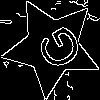G: (27, 22, 85, 78)
